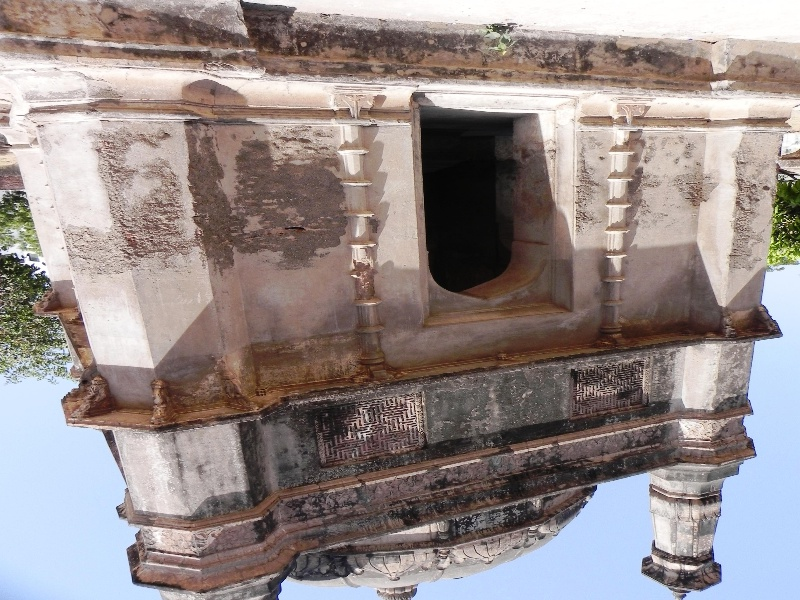Spalling: (199, 138, 349, 270), (72, 133, 191, 274)
